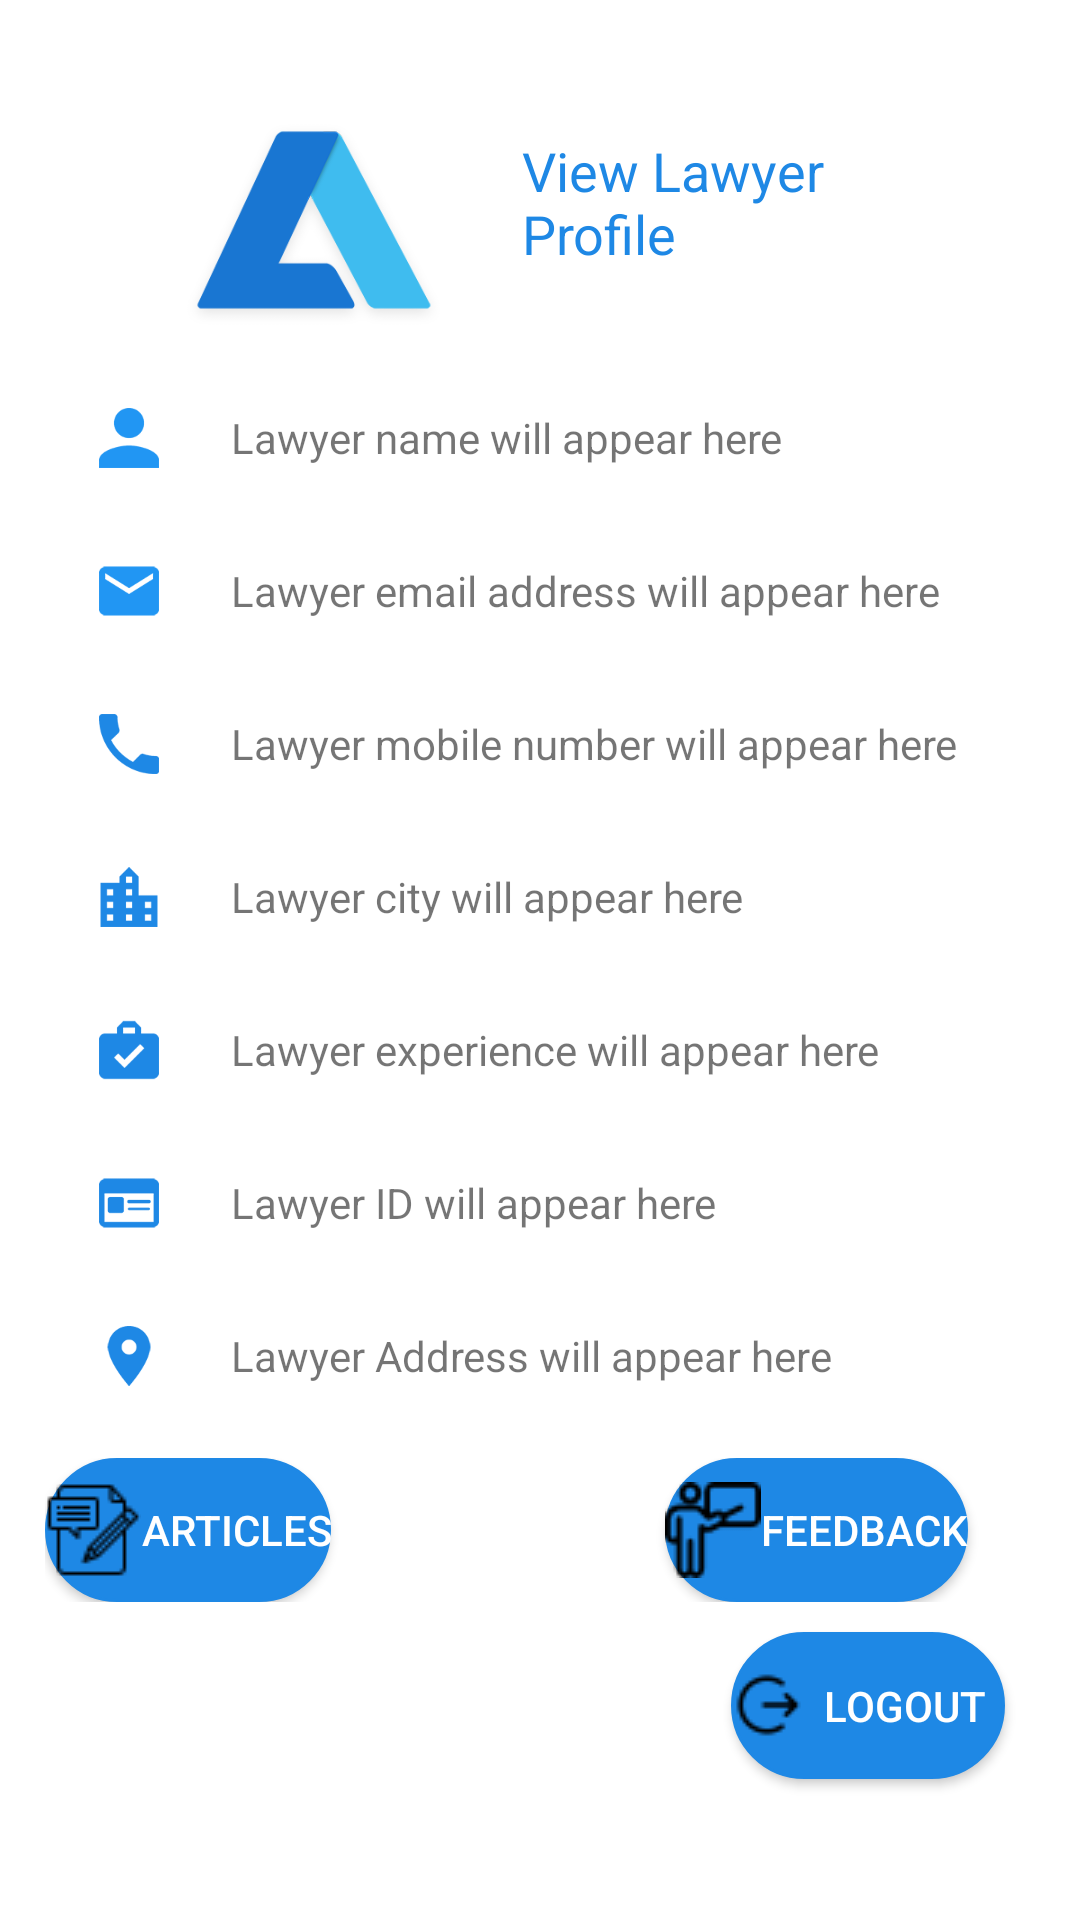

Icons on this 1080px x 1920px Android screen, each with the point to tap as point (x, y):
adv id: point (129, 1203)
emain: point (129, 591)
phone: point (129, 744)
user shape: point (129, 438)
work exp: point (129, 1050)
